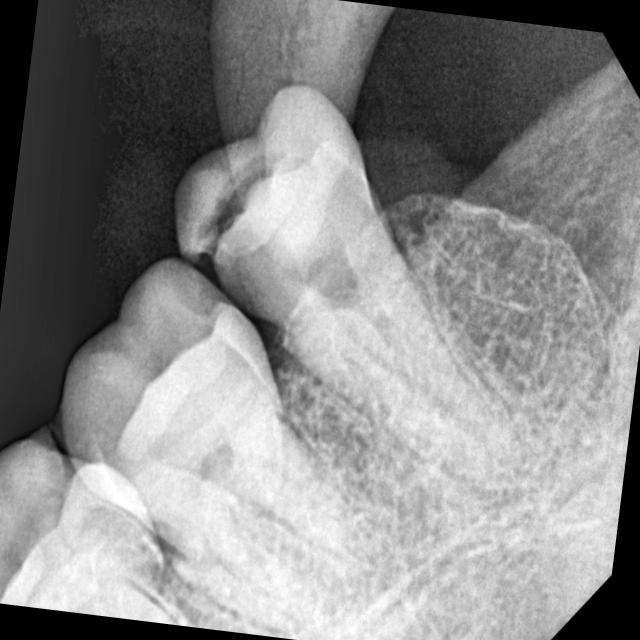Caries: (158, 110, 318, 322)
Normal: (30, 236, 421, 640)
